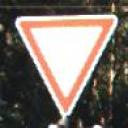preferencia: (12, 11, 118, 116)
